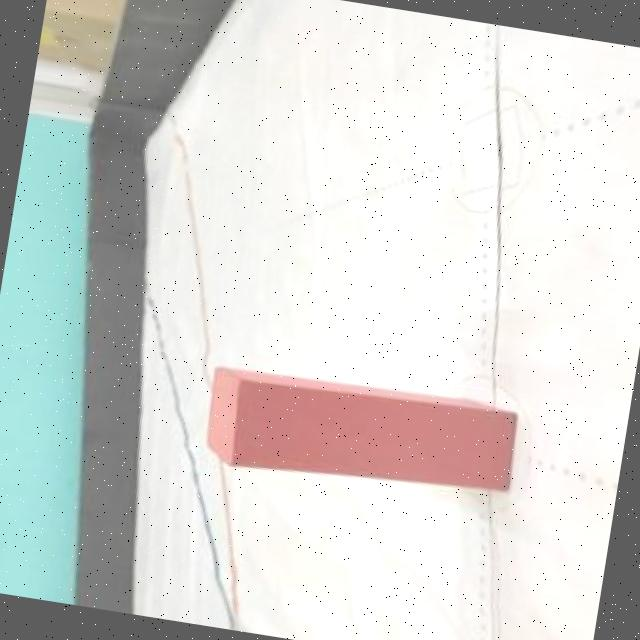redbox: (195, 356, 524, 510)
